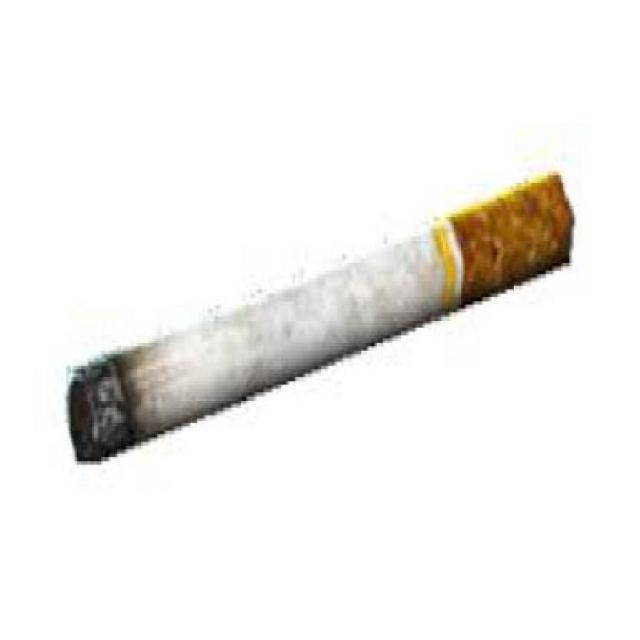cigarette: (60, 148, 582, 484)
